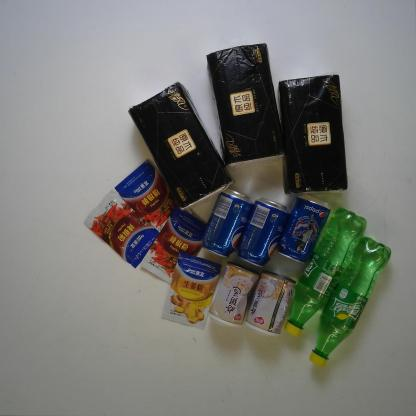Canned Food: (206, 260, 261, 332), (242, 270, 298, 339)
Drink: (308, 234, 392, 368), (284, 205, 367, 339), (276, 192, 334, 264), (200, 184, 254, 259), (236, 195, 290, 268)
Seasoner: (81, 188, 160, 270), (139, 209, 210, 288), (110, 158, 179, 232), (162, 250, 223, 330)
Tissue: (126, 82, 235, 211), (202, 43, 287, 166), (276, 74, 348, 195)
